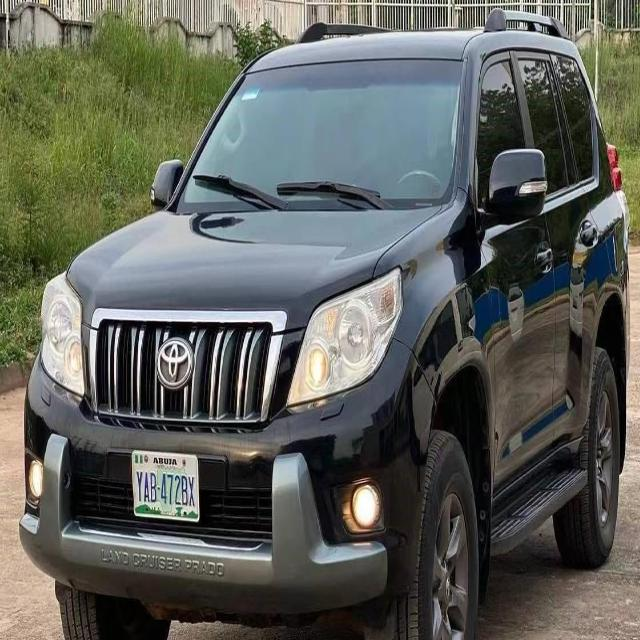Nigerian License Plate - vdataset benjamin-daria: (130, 444, 203, 528)
